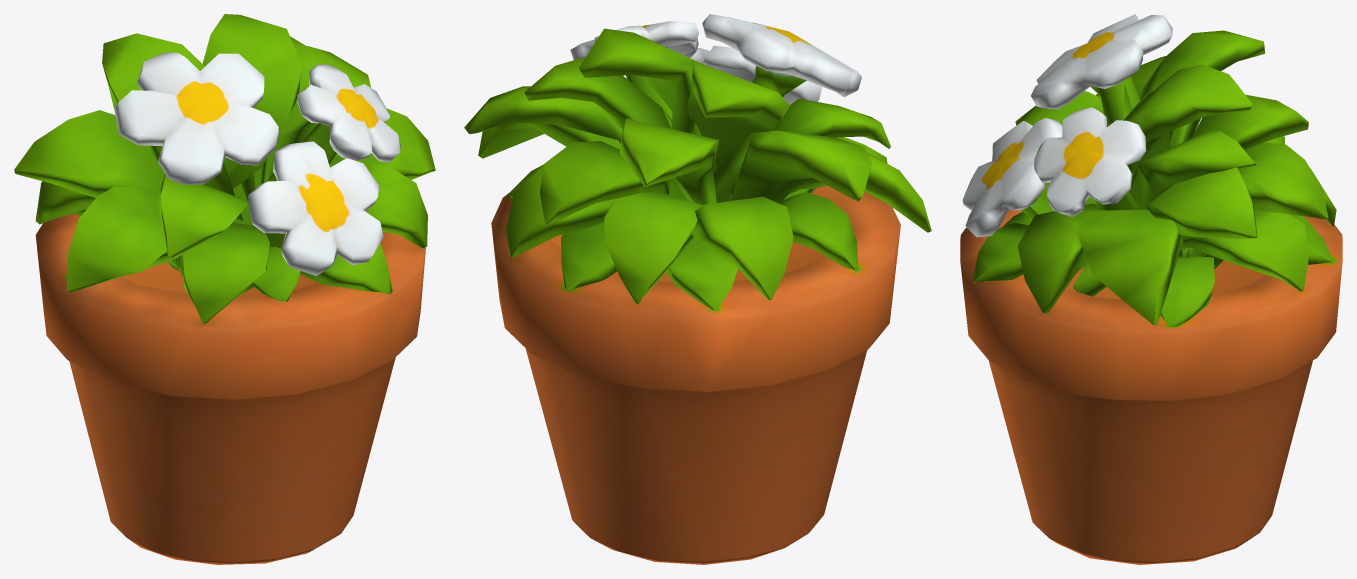
File: pot_clay.glb
The picture shows the model from 3 angles, left to right: view 1: azimuth 30°, elevation 25°; view 2: azimuth 150°, elevation 25°; view 3: azimuth 270°, elevation 25°; orthographic projection. The views are drawn at different scales.
Visible parts, largest first — view 1: geometry_0; view 2: geometry_0; view 3: geometry_0.
Boxes of the visible parts, x1,y1,x2,y2 form: geometry_0: (14, 14, 435, 564); geometry_0: (464, 14, 931, 564); geometry_0: (960, 14, 1342, 564).
Size of the model in its own units: 0.8384 by 0.9517 by 0.7041.
1 material, 1 textured.
